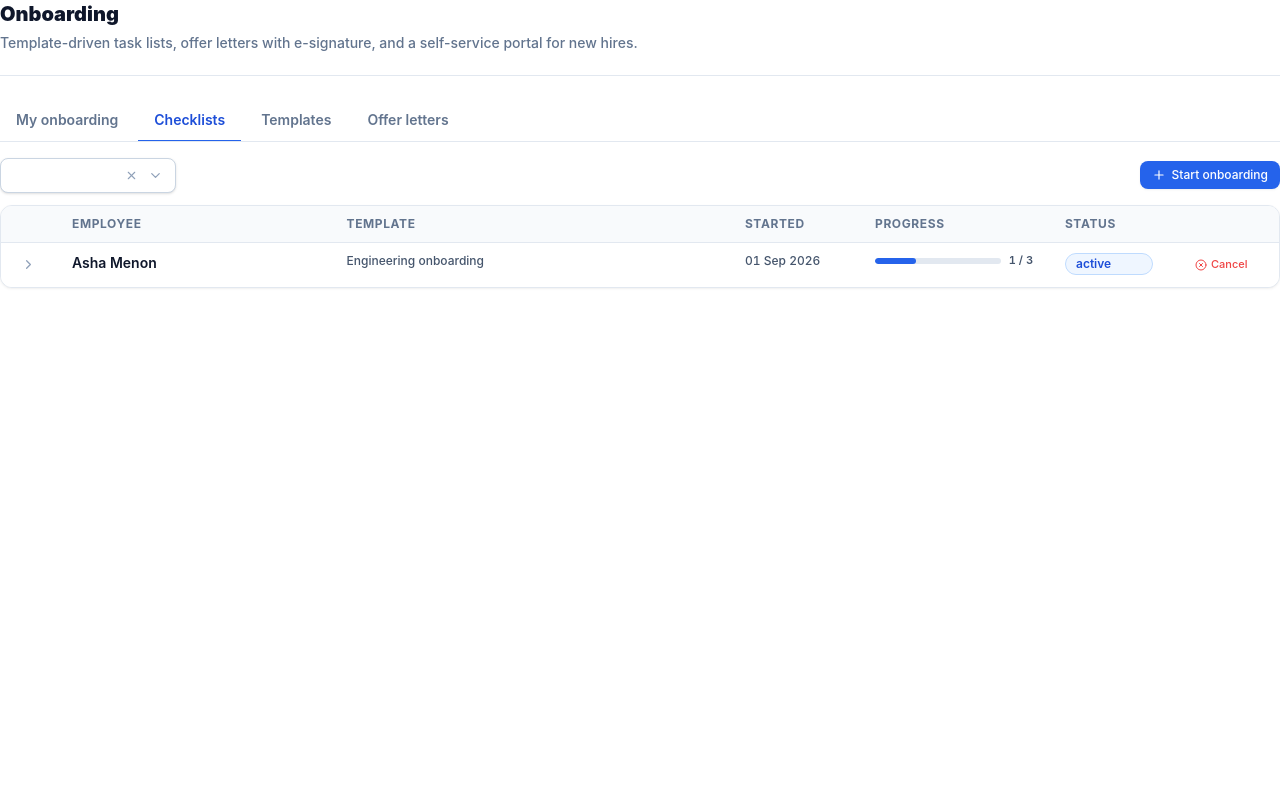
Test: checklists › will not cancel an onboarding without a reason
Click the button "Cancel" at point(1221, 265), box [1185,253,1258,276]
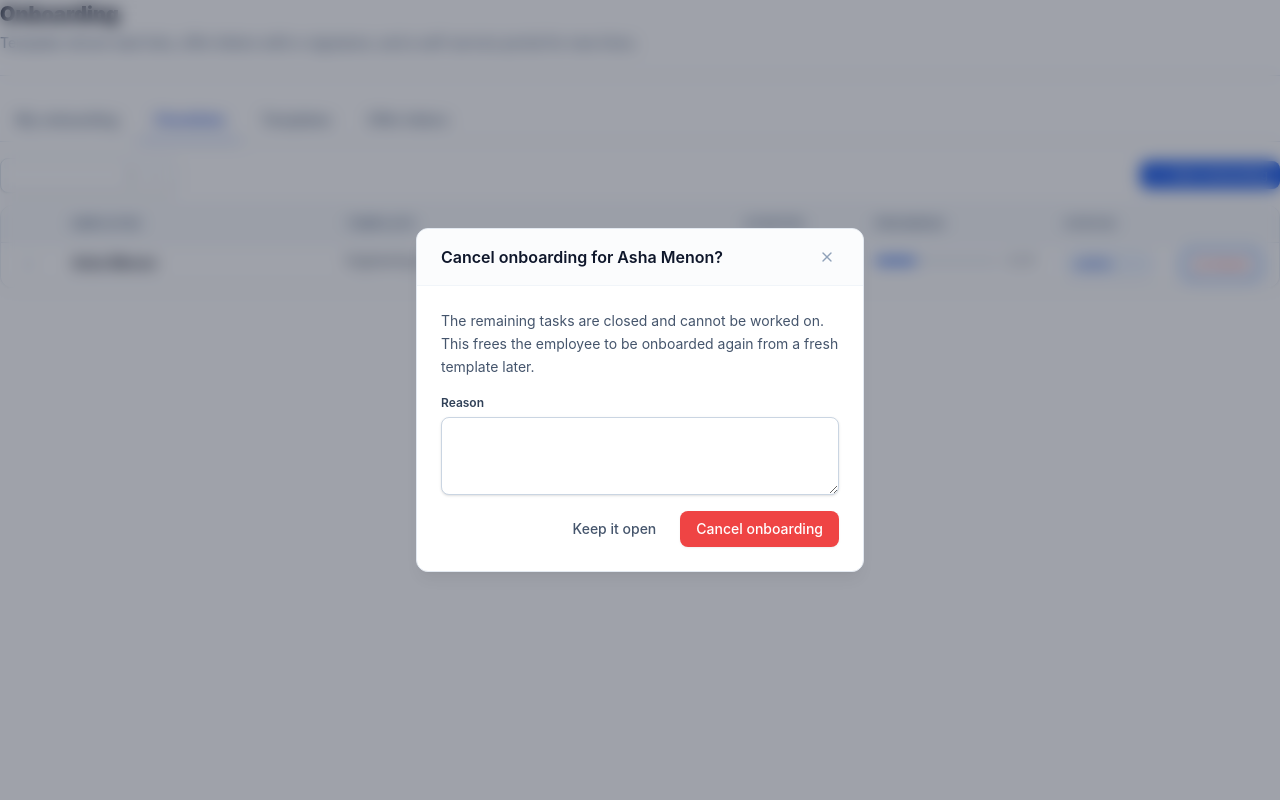
Click the button "Cancel onboarding" at point(760, 529), box [680,511,839,547]
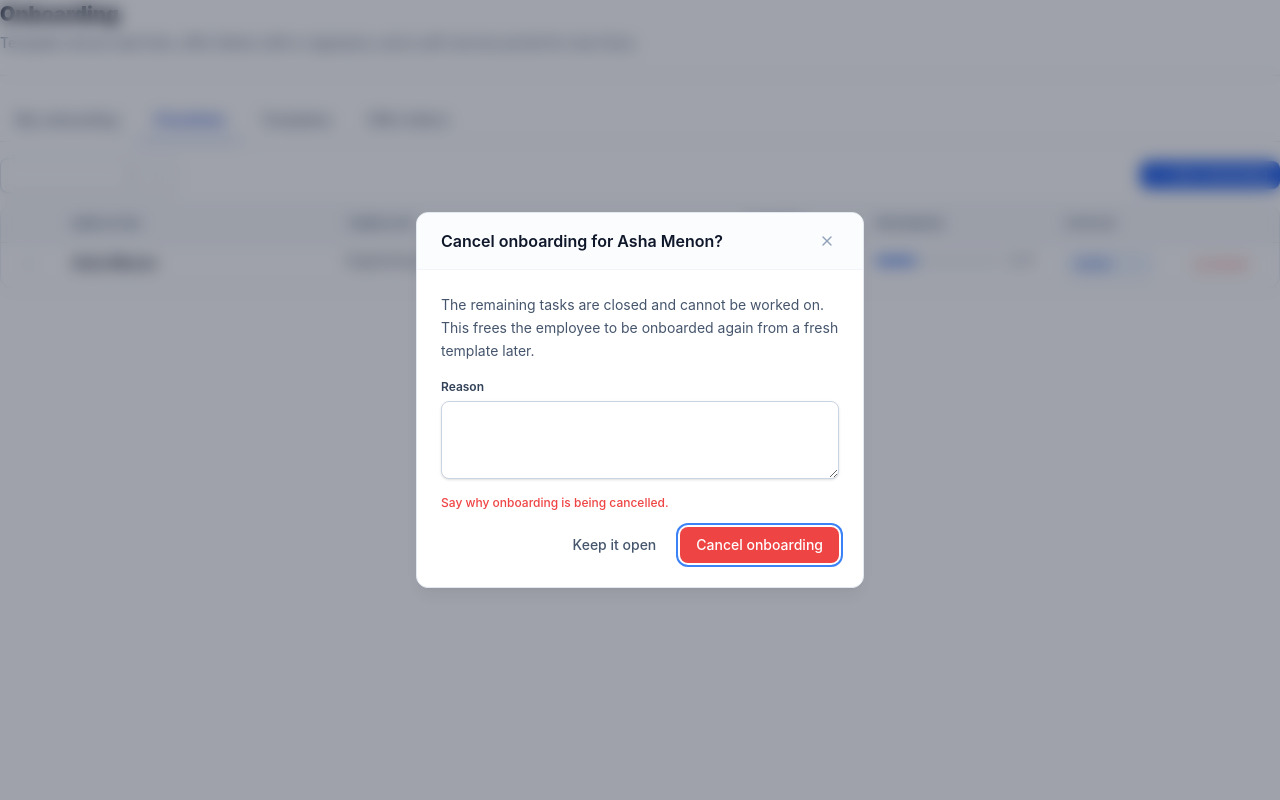
Expected: the message shows "Say why", [441,495,669,510]
